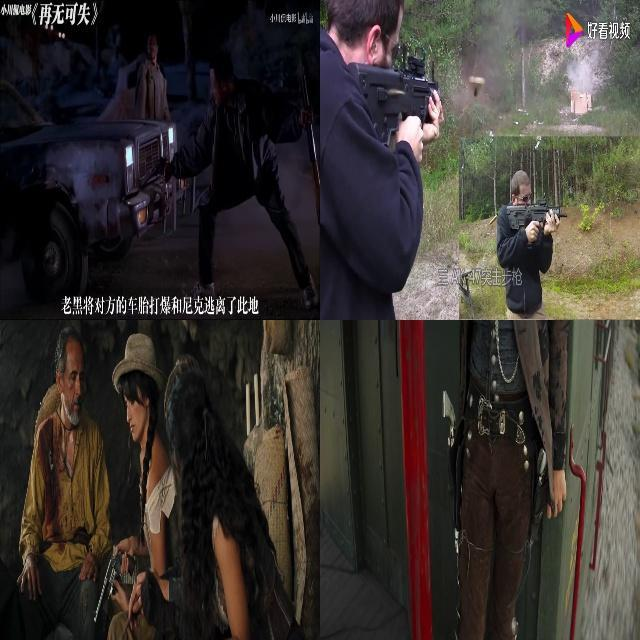gun-knife-thesis - v11 Yolov5 augmented: (342, 47, 449, 160), (435, 383, 463, 554), (506, 193, 562, 258), (92, 544, 135, 626), (529, 441, 547, 555), (136, 145, 168, 195)
